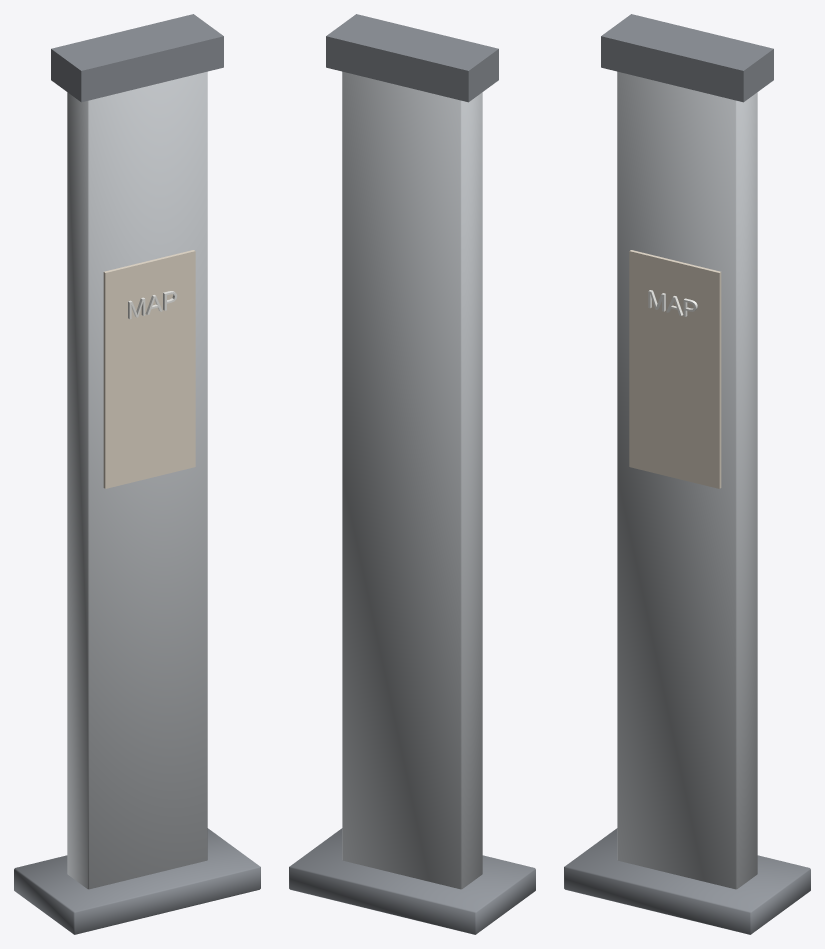
Rendered from Wayfinding_Pylon.fbx.
The picture shows the model from 3 angles, left to right: view 1: azimuth 30°, elevation 25°; view 2: azimuth 150°, elevation 25°; view 3: azimuth 330°, elevation 25°; orthographic projection.
Parts seen in each view (by area): view 1: LOD0; view 2: LOD0; view 3: LOD0.
Part boxes in pixels (bbox=[...]): LOD0: bbox=[14, 14, 260, 934]; LOD0: bbox=[289, 14, 535, 934]; LOD0: bbox=[564, 14, 810, 934].
Size of what is drawn, in the model's own units: 50 by 216 by 28.
